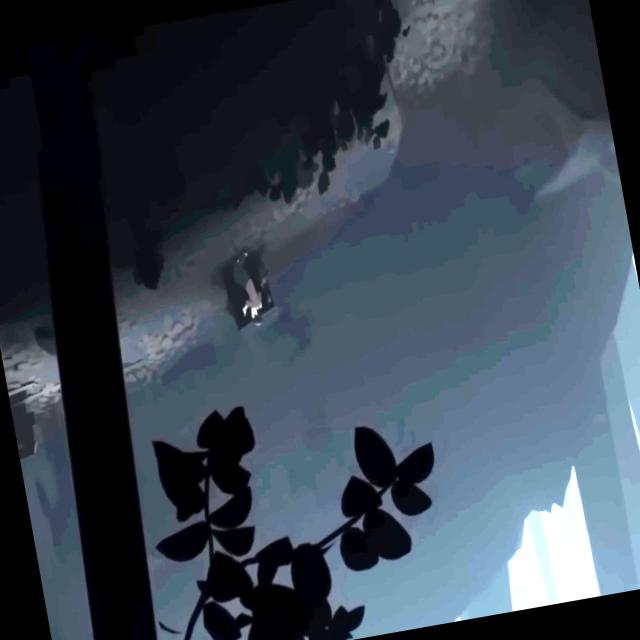boy: (232, 245, 266, 326)
